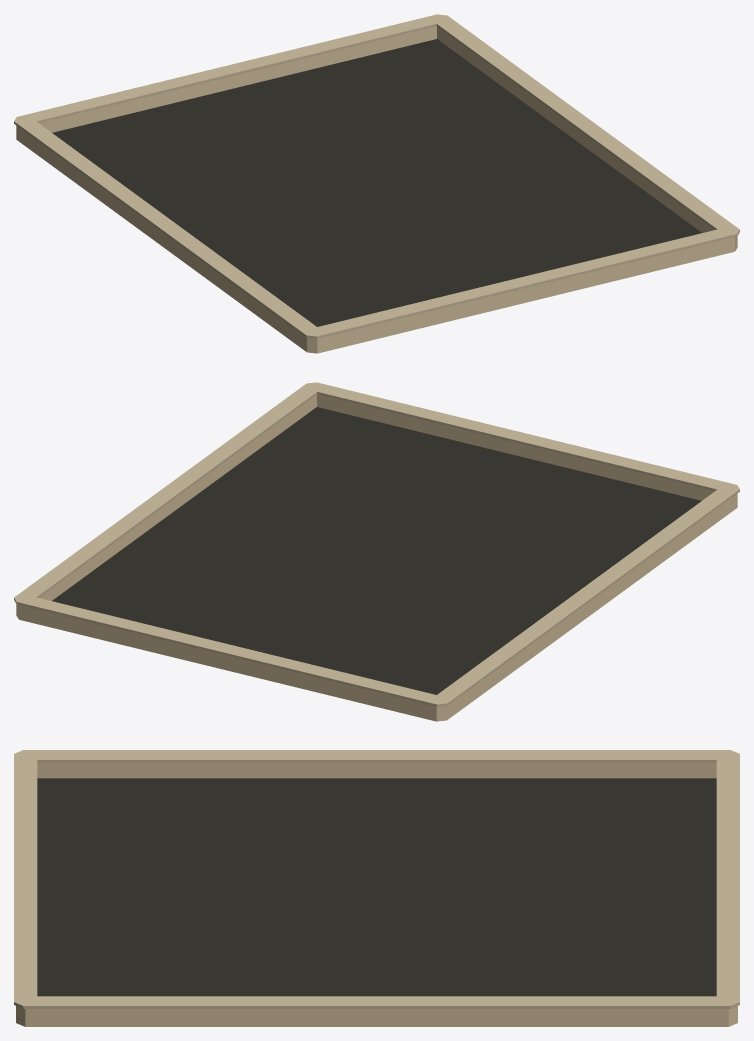
Rendered from SM_Homes_H02_Roof_LOD2.fbx.
3 views of the same model, one above another, from view 1: azimuth 30°, elevation 25°; view 2: azimuth 150°, elevation 25°; view 3: azimuth 270°, elevation 25° (orthographic). The views are drawn at different scales.
Visible parts, largest first — view 1: SM_Homes_H02_Roof_LOD2; view 2: SM_Homes_H02_Roof_LOD2; view 3: SM_Homes_H02_Roof_LOD2.
Part boxes in pixels (bbox=[...]): SM_Homes_H02_Roof_LOD2: bbox=[14, 14, 739, 353]; SM_Homes_H02_Roof_LOD2: bbox=[14, 382, 739, 721]; SM_Homes_H02_Roof_LOD2: bbox=[14, 750, 739, 1026].
Size of the model in its own units: 7.55 by 9.05 by 0.34.
